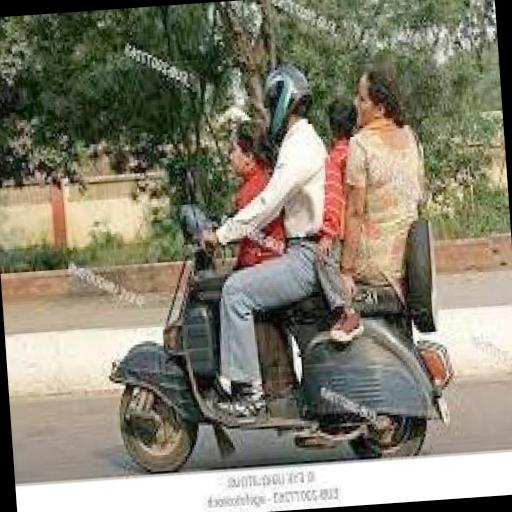helmet: (250, 41, 348, 192)
triple riding: (90, 22, 491, 477)
